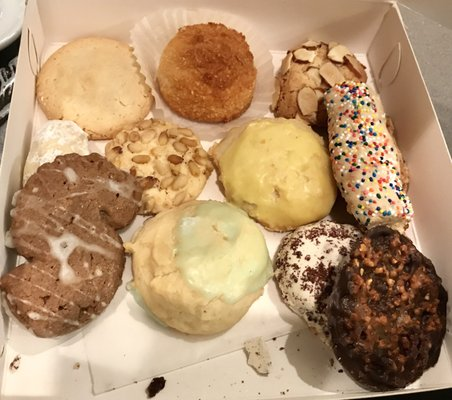salad: (271, 220, 448, 390), (3, 152, 140, 338), (126, 200, 273, 336), (210, 116, 337, 232), (324, 81, 414, 235), (36, 36, 155, 140), (104, 119, 215, 213), (156, 22, 257, 123), (271, 39, 367, 127)
